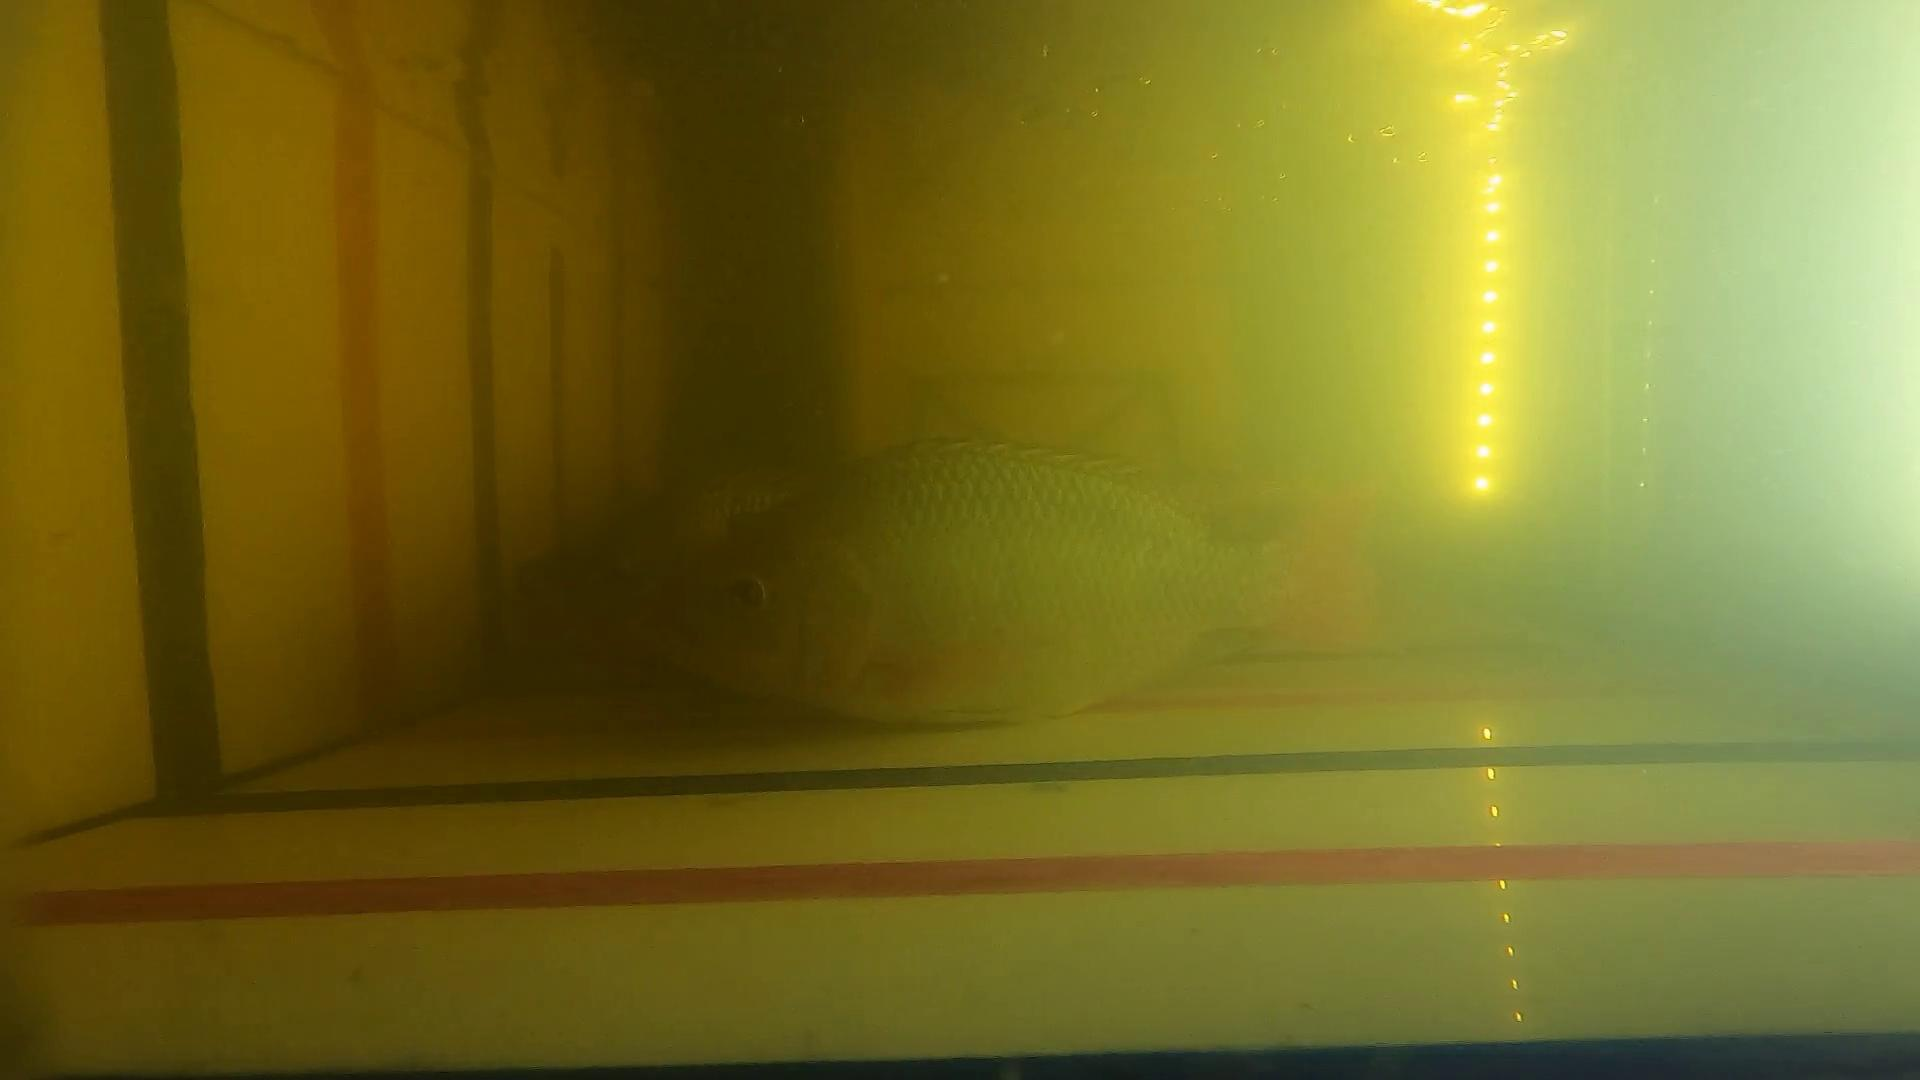Tilapia: (628, 440, 1391, 731)
